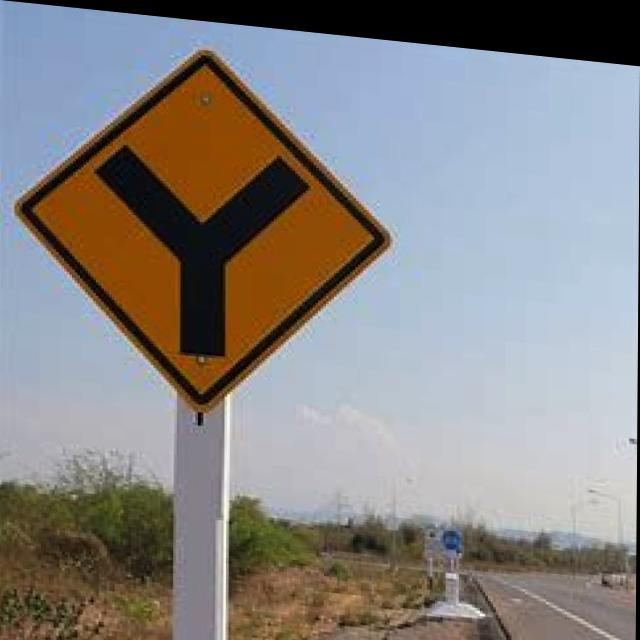Y_INTERSECTION: (10, 23, 409, 440)
